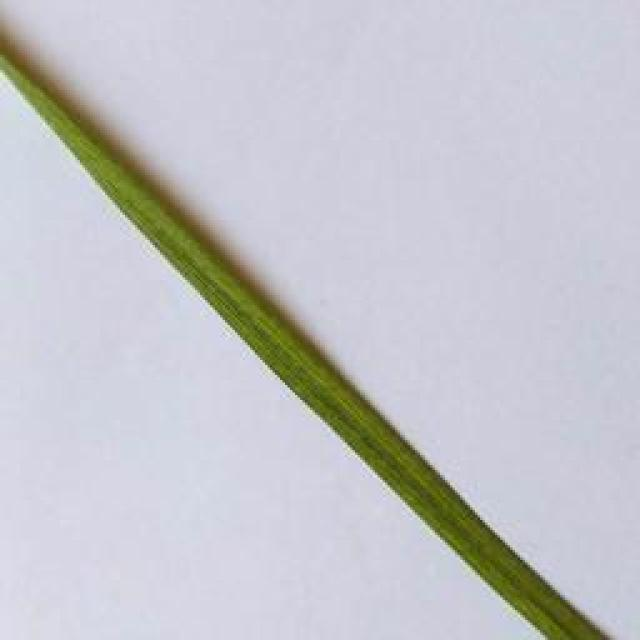Healthy-Plant: (0, 54, 607, 640)
